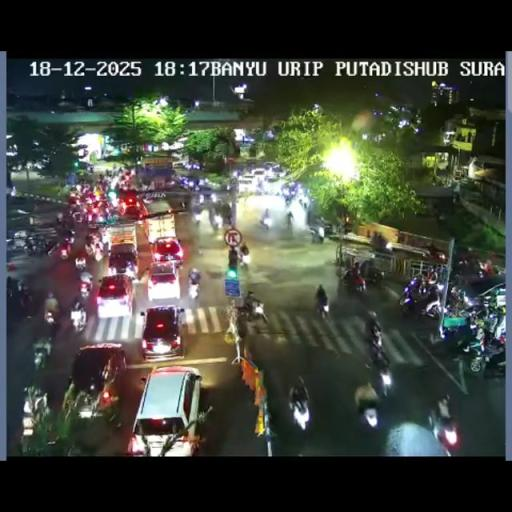Car: (126, 364, 204, 455), (66, 344, 127, 419), (139, 304, 186, 360), (20, 383, 50, 444), (95, 274, 135, 318), (146, 262, 182, 302), (107, 242, 139, 278), (150, 236, 184, 266), (118, 190, 146, 218), (84, 232, 106, 260), (250, 169, 268, 186), (238, 174, 254, 192), (265, 170, 280, 182), (262, 162, 278, 172)
Motorcycle: (260, 198, 312, 236), (462, 330, 505, 374), (400, 278, 442, 320), (366, 357, 394, 402), (238, 292, 269, 328), (356, 390, 379, 428), (434, 413, 458, 448), (288, 392, 310, 430), (339, 267, 366, 296), (446, 285, 470, 314), (482, 291, 506, 320), (454, 255, 480, 278), (46, 309, 63, 341), (69, 303, 87, 333), (33, 342, 49, 370), (6, 276, 24, 300), (362, 268, 384, 287), (314, 295, 330, 321), (18, 287, 34, 312), (424, 241, 445, 260), (56, 238, 74, 260), (60, 210, 75, 234), (186, 277, 201, 300), (24, 237, 42, 255), (422, 267, 438, 287), (236, 250, 250, 271), (102, 202, 118, 220), (79, 278, 92, 300), (370, 327, 383, 348), (221, 202, 232, 224), (310, 226, 324, 243), (258, 214, 272, 230), (44, 238, 58, 254), (203, 176, 219, 190), (138, 266, 150, 283), (74, 255, 86, 271), (341, 218, 353, 234), (491, 265, 505, 276), (195, 237, 203, 256), (299, 195, 309, 209), (102, 239, 110, 255), (214, 216, 223, 230), (73, 211, 83, 223), (85, 209, 94, 222), (193, 213, 201, 227), (284, 195, 292, 207), (385, 240, 393, 251), (286, 215, 292, 229), (210, 193, 217, 202), (198, 194, 204, 204), (180, 200, 186, 209)
